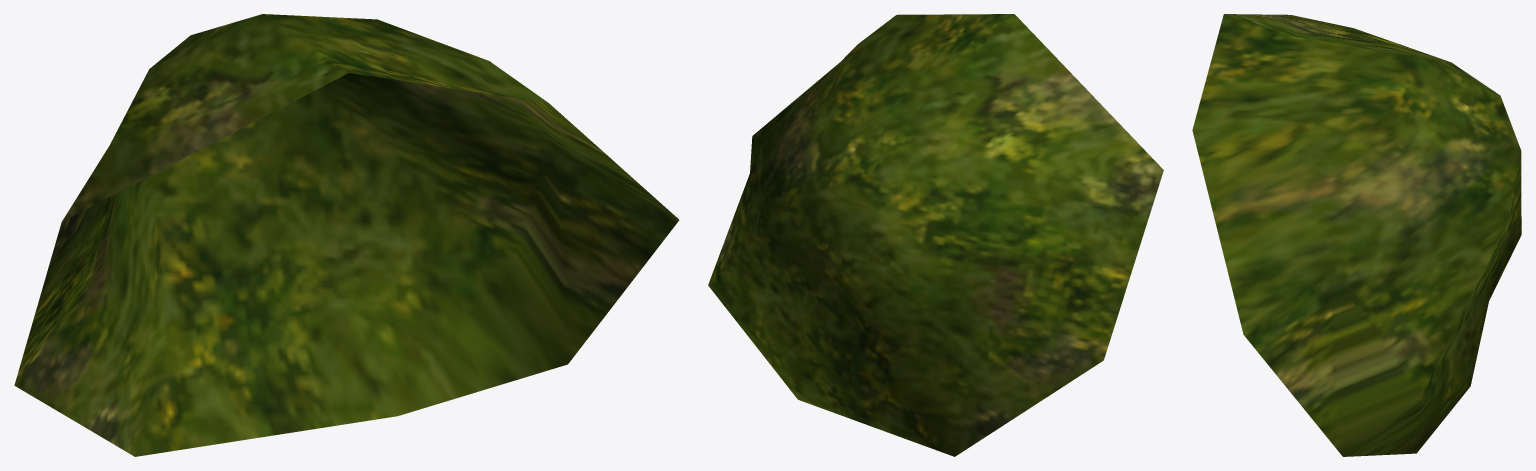
File: OVERHILL_A_01_BR_ROCK203.fbx
3 renders of one model, left to right at view 1: azimuth 30°, elevation 25°; view 2: azimuth 150°, elevation 25°; view 3: azimuth 270°, elevation 25°, orthographic. The views are drawn at different scales.
Visible parts, largest first — view 1: OVERHILL_A_01_BR_ROCK203; view 2: OVERHILL_A_01_BR_ROCK203; view 3: OVERHILL_A_01_BR_ROCK203.
Boxes of the visible parts, x1=… form: OVERHILL_A_01_BR_ROCK203: x1=14, y1=14, x2=679, y2=456; OVERHILL_A_01_BR_ROCK203: x1=708, y1=14, x2=1163, y2=456; OVERHILL_A_01_BR_ROCK203: x1=1192, y1=14, x2=1521, y2=456.
Bounding box in the file's own units: 11139 × 8618 × 6860.
Materials: 1 (1 with a texture image).
